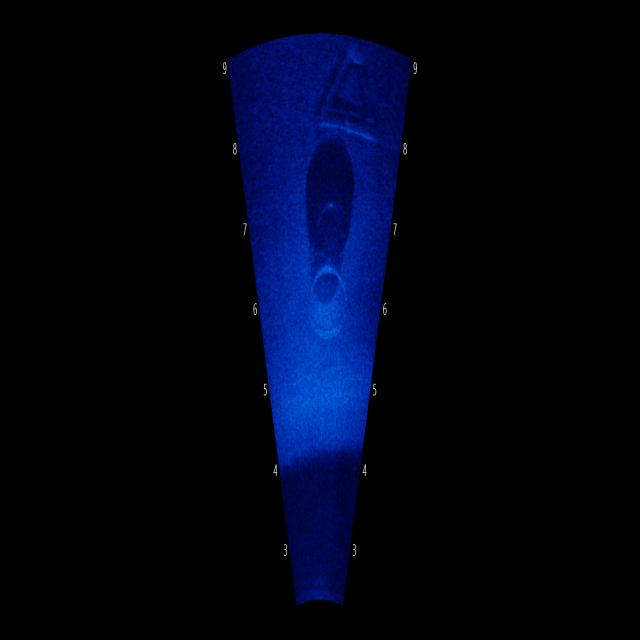circle: (306, 229, 353, 368)
triangle: (306, 41, 388, 138)
